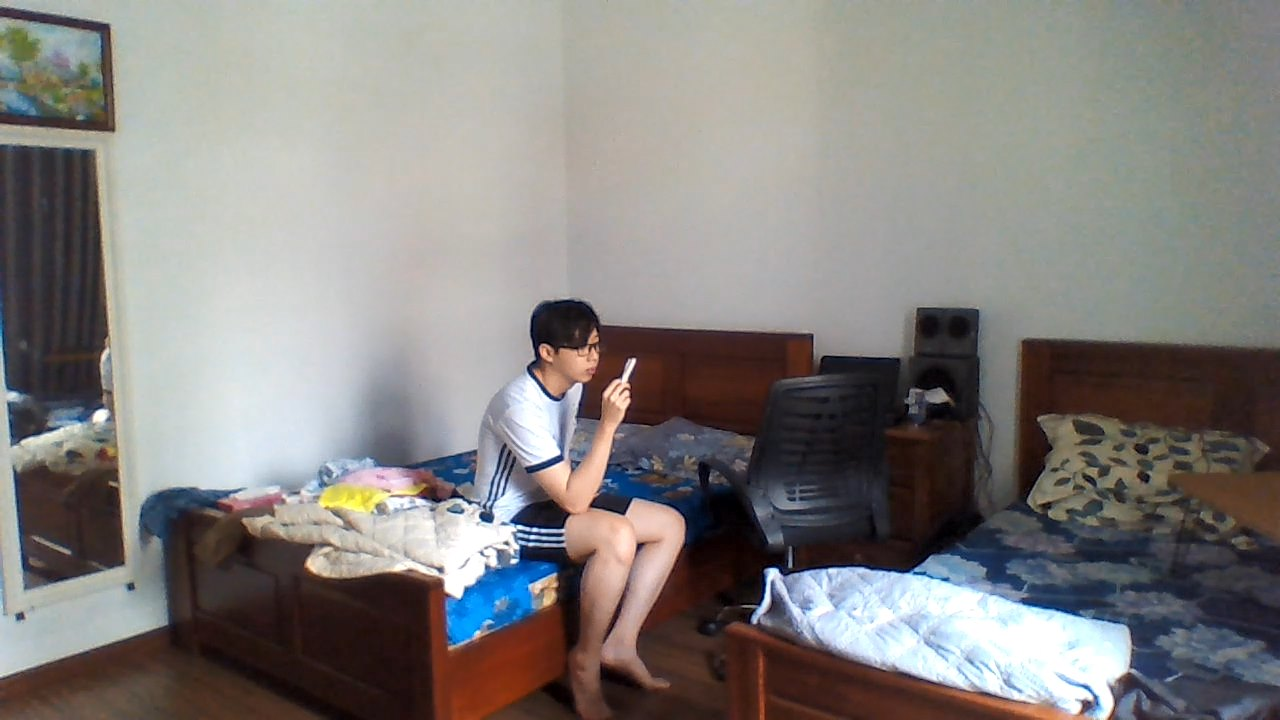cigarette: (620, 356, 638, 385)
person: (466, 280, 691, 720)
